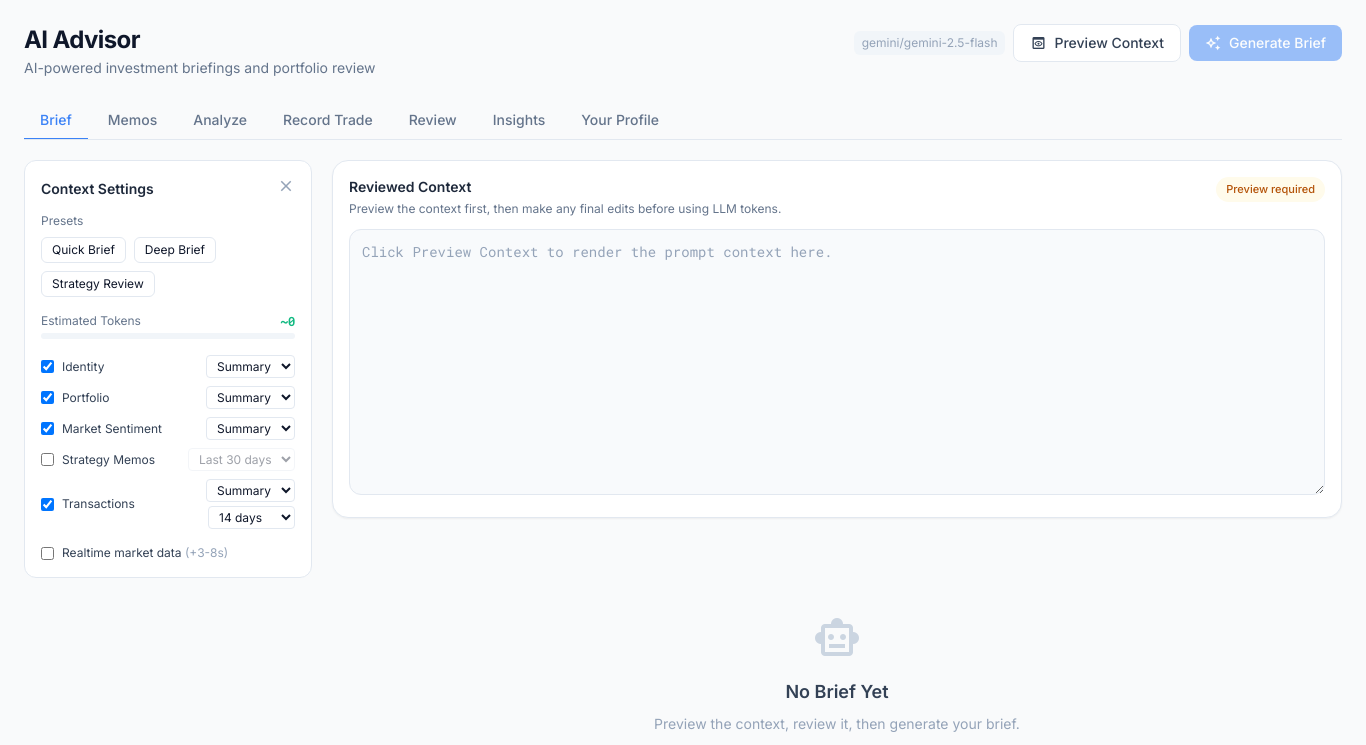
AI Advisor — Your profile tab and first-run callout › renders the InvestorProfileEditor when the Your Profile tab is selected
The width and height of the screenshot is (1366, 745).
Click the button "Your Profile" at (620, 121), box [565, 102, 675, 140]
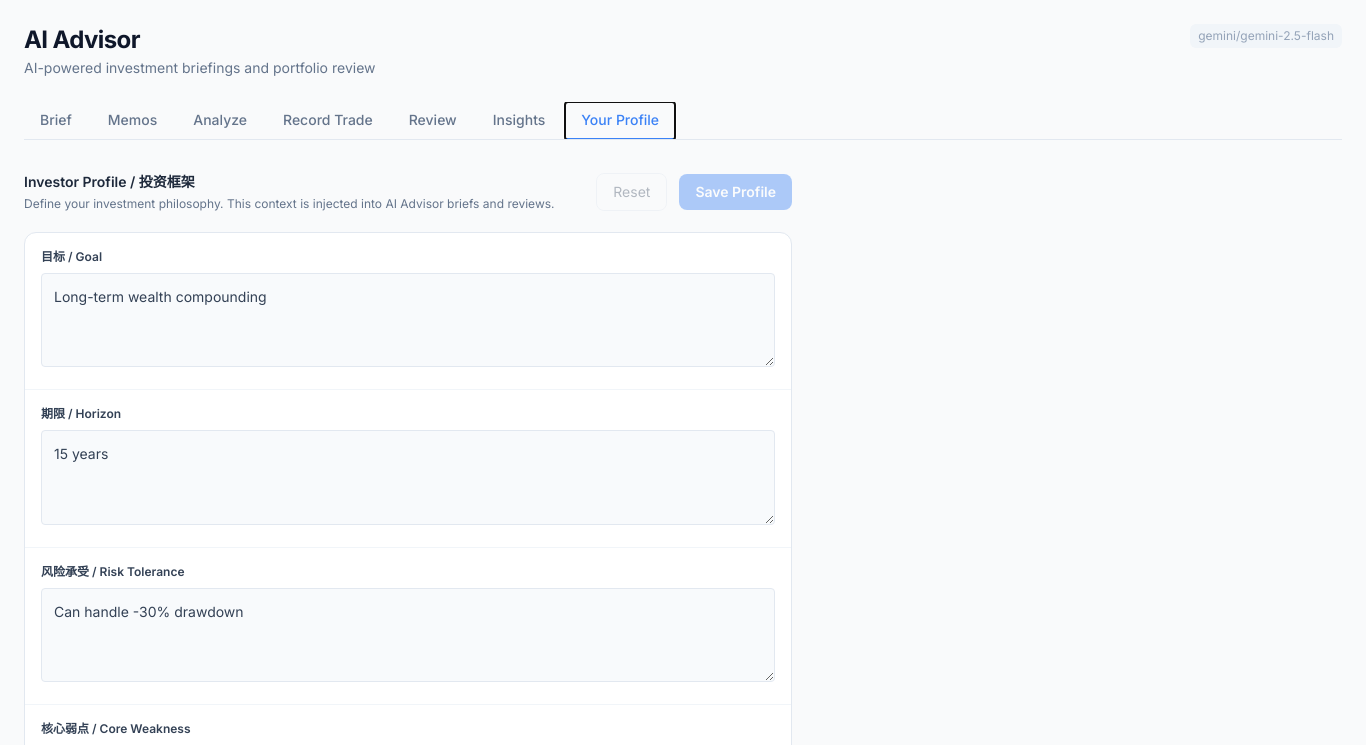
Now the text box showing "Long-term wealth compounding" is shown, box [41, 273, 775, 367]
Now the text box showing "15 years" is shown, box [41, 430, 775, 525]
